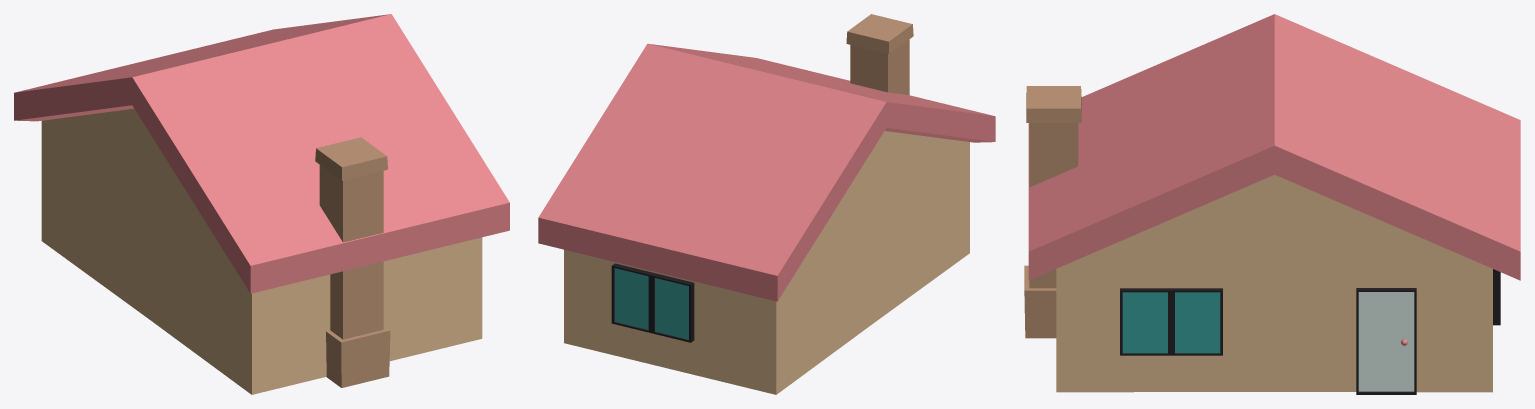
The model's file is house1.fbx.
3 renders of one model, left to right at view 1: azimuth 30°, elevation 25°; view 2: azimuth 150°, elevation 25°; view 3: azimuth 270°, elevation 25°, orthographic. The views are drawn at different scales.
Visible parts, largest first — view 1: Plane.001, Plane, Cube; view 2: Plane.001, Plane, Cube.003, Cube; view 3: Plane.001, Plane, Cube.002, Cube, Cube.012, Cube.003.
Part boxes in pixels (x1=…): Plane.001: x1=14, y1=14, x2=509, y2=293; Plane: x1=41, y1=108, x2=482, y2=394; Cube: x1=315, y1=137, x2=390, y2=387; Plane.001: x1=538, y1=43, x2=995, y2=301; Plane: x1=564, y1=131, x2=969, y2=394; Cube.003: x1=611, y1=263, x2=694, y2=342; Cube: x1=846, y1=14, x2=913, y2=95; Plane.001: x1=1028, y1=14, x2=1520, y2=280; Plane: x1=1056, y1=174, x2=1492, y2=392; Cube.002: x1=1120, y1=288, x2=1222, y2=355; Cube: x1=1024, y1=86, x2=1081, y2=338; Cube.012: x1=1356, y1=288, x2=1416, y2=394; Cube.003: x1=1493, y1=269, x2=1500, y2=325.
Bounding box in the file's own units: 1275 × 1151 × 2031.
Materials: 5 (2 with a texture image).
